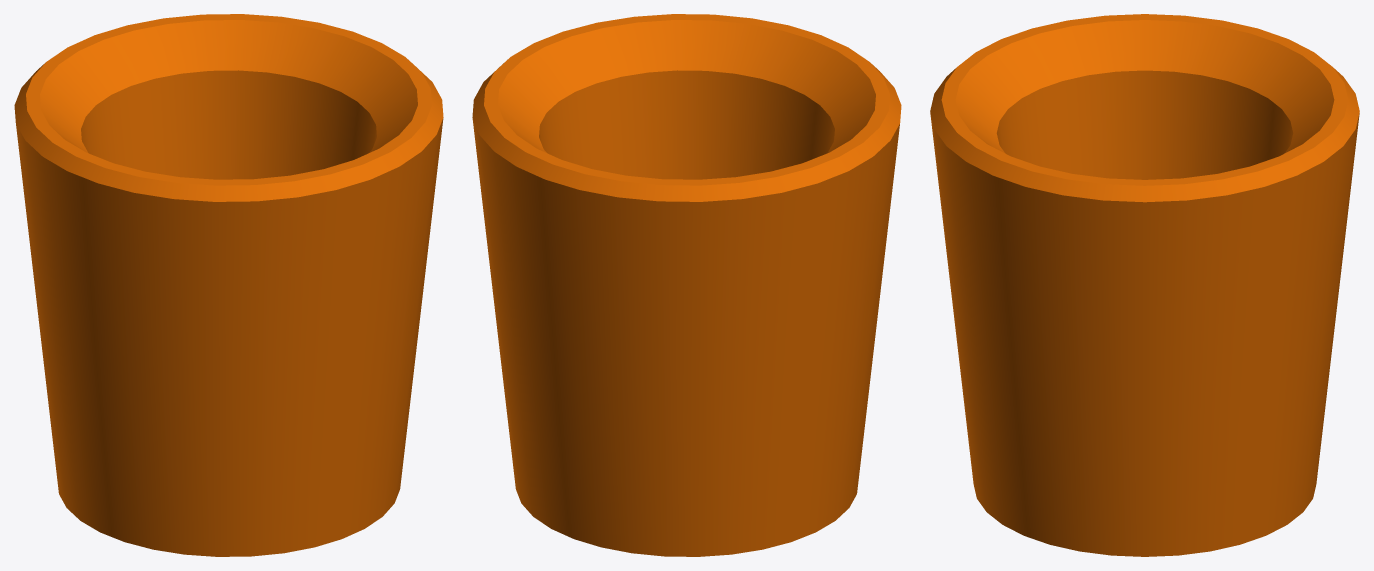
File: BaldeFlechasfbx.fbx
3 views of the same model, side by side, from view 1: azimuth 30°, elevation 25°; view 2: azimuth 150°, elevation 25°; view 3: azimuth 270°, elevation 25° (orthographic).
Visible parts, largest first — view 1: Cylinder; view 2: Cylinder; view 3: Cylinder.
Boxes of the visible parts, left/top/right/bottom form: Cylinder: left=14, top=14, right=443, bottom=556; Cylinder: left=472, top=14, right=901, bottom=556; Cylinder: left=930, top=14, right=1359, bottom=556.
Bounding box in the file's own units: 199 × 196 × 199.
